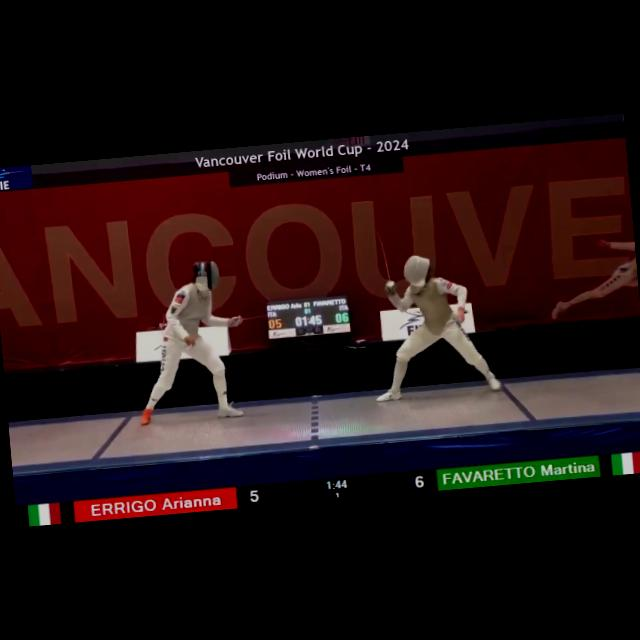blade: (372, 223, 398, 290), (232, 308, 283, 325)
